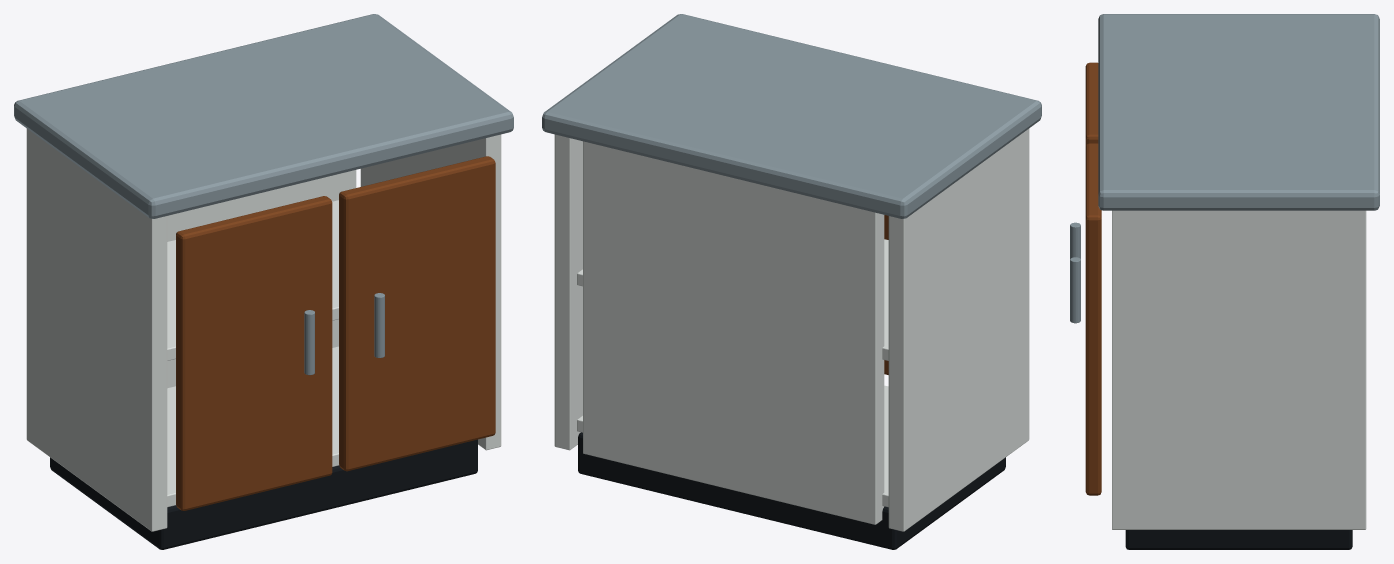
File: edited.glb
3 views of the same model, side by side, from view 1: azimuth 30°, elevation 25°; view 2: azimuth 150°, elevation 25°; view 3: azimuth 270°, elevation 25° (orthographic).
Visible parts, largest first — view 1: COUNTER_Top, BODY_Side.001, DOOR_Panel.001, DOOR_Panel, PLINTH, BODY_Side, BODY_Back, SHELF, SHELF.001, HANDLE, HANDLE.001; view 2: BODY_Back, COUNTER_Top, BODY_Side.001, BODY_Side, PLINTH, SHELF, SHELF.001; view 3: BODY_Side, COUNTER_Top, DOOR_Panel.001, PLINTH, DOOR_Panel, HANDLE.001, HANDLE.
Boxes of the visible parts, <box> form: COUNTER_Top: <box>14,14,513,218</box>; BODY_Side.001: <box>26,128,167,531</box>; DOOR_Panel.001: <box>339,156,495,471</box>; DOOR_Panel: <box>176,196,332,510</box>; PLINTH: <box>50,439,477,549</box>; BODY_Side: <box>360,134,501,450</box>; BODY_Back: <box>167,170,356,388</box>; SHELF: <box>167,346,339,507</box>; SHELF.001: <box>167,200,338,360</box>; HANDLE: <box>304,310,314,375</box>; HANDLE.001: <box>374,293,384,357</box>; BODY_Back: <box>583,141,884,524</box>; COUNTER_Top: <box>542,14,1041,218</box>; BODY_Side.001: <box>888,128,1029,531</box>; BODY_Side: <box>554,134,582,450</box>; PLINTH: <box>578,432,1005,549</box>; SHELF: <box>577,385,888,507</box>; SHELF.001: <box>577,239,888,360</box>; BODY_Side: <box>1112,210,1366,529</box>; COUNTER_Top: <box>1098,14,1379,210</box>; DOOR_Panel.001: <box>1085,143,1101,495</box>; PLINTH: <box>1125,530,1352,549</box>; DOOR_Panel: <box>1085,62,1098,146</box>; HANDLE.001: <box>1070,257,1080,323</box>; HANDLE: <box>1070,222,1080,259</box>.
Size of the model in its own units: 0.94 by 0.9 by 0.682.
